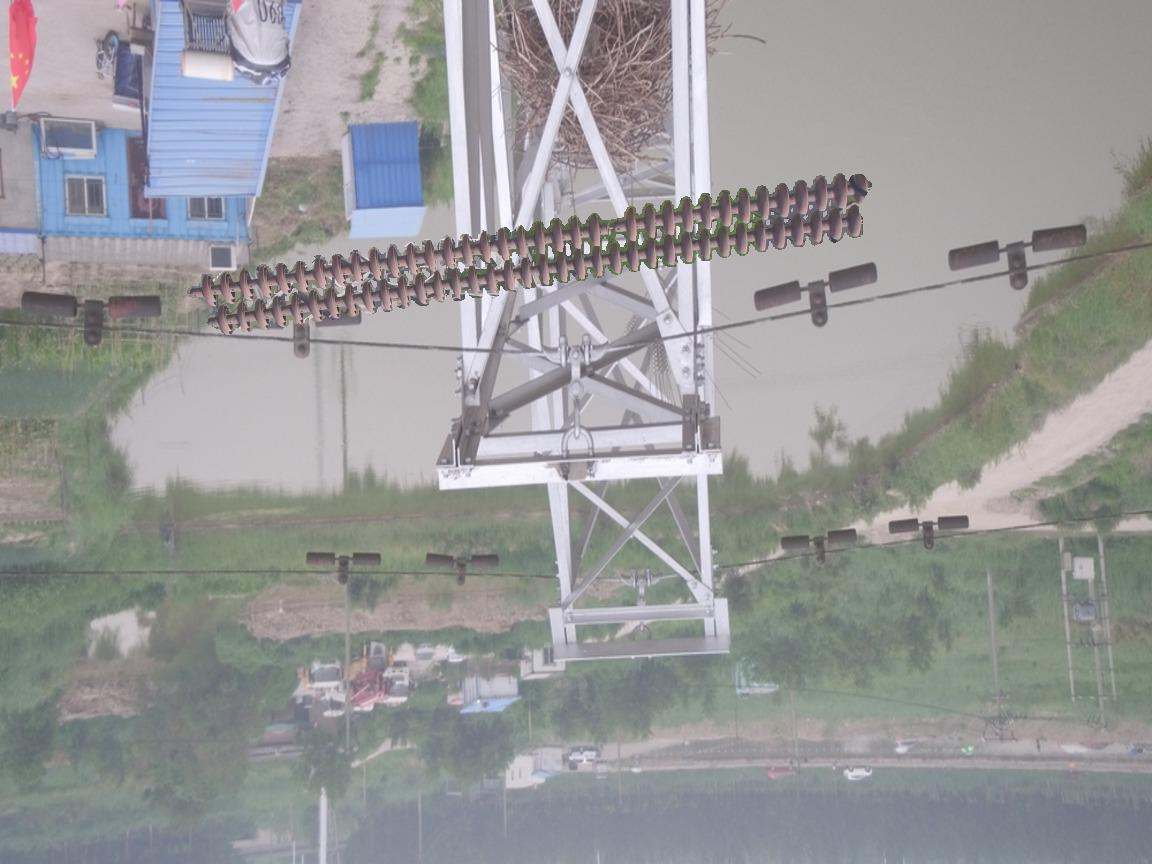insulator: (193, 167, 873, 341)
insulator_stringdrop: (586, 205, 640, 250)
